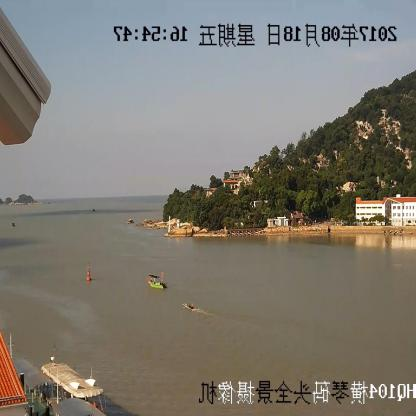Fishing Boat: (148, 272, 167, 289), (184, 303, 194, 311)
